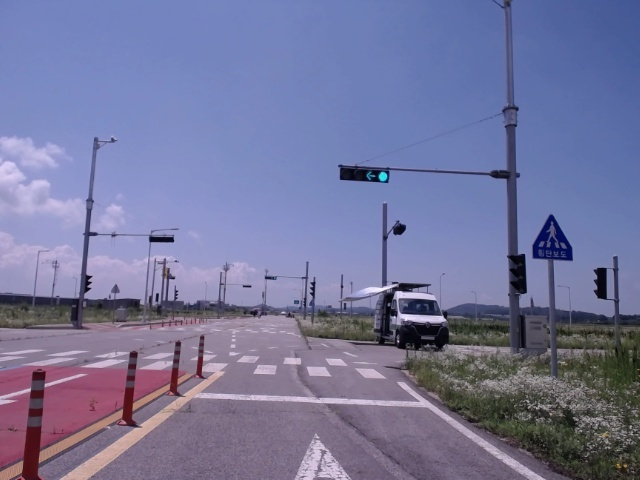all_green_4: (337, 166, 394, 182)
